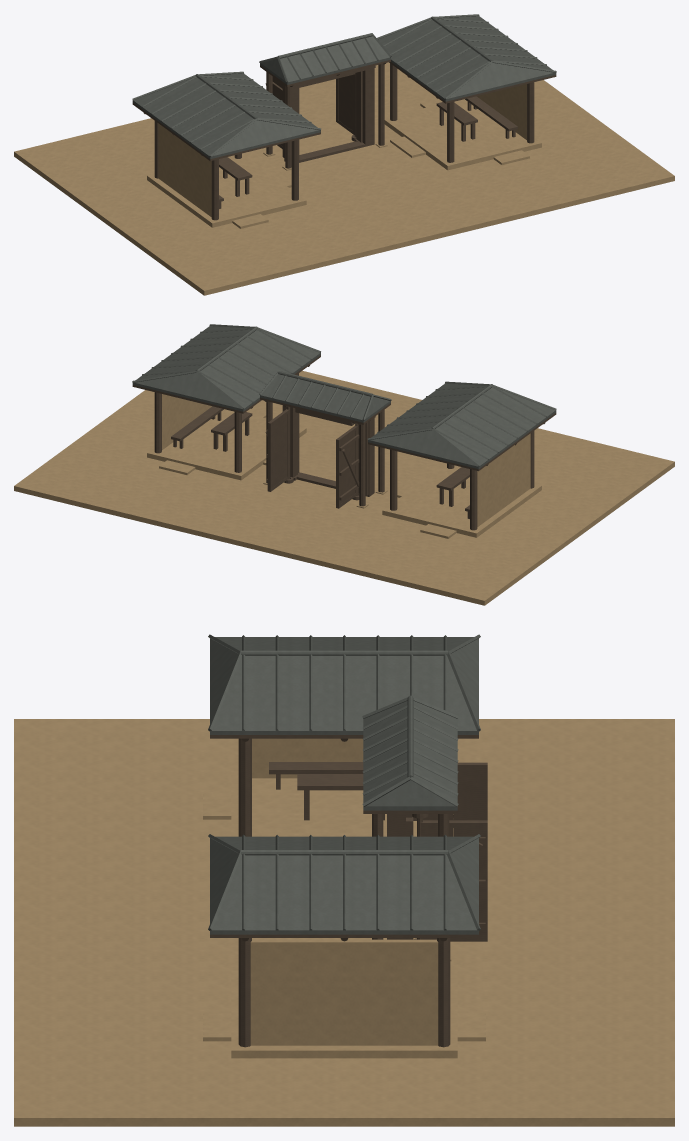
The model's file is guard-slice-open-LOD1.glb.
The picture shows the model from 3 angles, top to bottom: view 1: azimuth 30°, elevation 25°; view 2: azimuth 150°, elevation 25°; view 3: azimuth 270°, elevation 25°; orthographic projection. The views are drawn at different scales.
Visible parts, largest first — view 1: guard-slice-ground-earth, guard-slice-west-tile, guard-slice-east-tile, guard-slice-west-earth, guard-slice-east-earth, guard-slice-portal-timber, guard-slice-portal-tile, guard-slice-east-timber, guard-slice-west-timber, guard-slice-leaf_R-timber; view 2: guard-slice-ground-earth, guard-slice-west-tile, guard-slice-east-tile, guard-slice-west-earth, guard-slice-east-earth, guard-slice-portal-timber, guard-slice-portal-tile, guard-slice-east-timber, guard-slice-west-timber, guard-slice-leaf_R-timber, guard-slice-leaf_L-timber; view 3: guard-slice-ground-earth, guard-slice-east-tile, guard-slice-east-earth, guard-slice-west-tile, guard-slice-west-earth, guard-slice-portal-tile, guard-slice-west-timber, guard-slice-east-timber, guard-slice-leaf_R-timber, guard-slice-leaf_L-timber, guard-slice-portal-timber.
Part boxes in pixels (left/top/right/bottom): guard-slice-ground-earth: left=14, top=62, right=674, bottom=295; guard-slice-west-tile: left=132, top=71, right=321, bottom=159; guard-slice-east-tile: left=377, top=14, right=556, bottom=101; guard-slice-west-earth: left=147, top=123, right=306, bottom=228; guard-slice-east-earth: left=384, top=84, right=541, bottom=170; guard-slice-portal-timber: left=260, top=60, right=390, bottom=168; guard-slice-portal-tile: left=259, top=33, right=391, bottom=84; guard-slice-east-timber: left=389, top=62, right=556, bottom=162; guard-slice-west-timber: left=132, top=103, right=320, bottom=220; guard-slice-leaf_R-timber: left=336, top=73, right=356, bottom=137; guard-slice-ground-earth: left=14, top=370, right=674, bottom=605; guard-slice-west-tile: left=367, top=381, right=556, bottom=469; guard-slice-east-tile: left=132, top=324, right=320, bottom=411; guard-slice-west-earth: left=382, top=433, right=541, bottom=538; guard-slice-east-earth: left=147, top=394, right=306, bottom=480; guard-slice-portal-timber: left=260, top=397, right=390, bottom=506; guard-slice-portal-tile: left=259, top=371, right=391, bottom=422; guard-slice-east-timber: left=132, top=355, right=320, bottom=472; guard-slice-west-timber: left=368, top=413, right=556, bottom=530; guard-slice-leaf_R-timber: left=265, top=407, right=290, bottom=491; guard-slice-leaf_L-timber: left=336, top=424, right=359, bottom=508; guard-slice-ground-earth: left=14, top=719, right=674, bottom=1126; guard-slice-east-tile: left=208, top=834, right=480, bottom=934; guard-slice-east-earth: left=203, top=939, right=485, bottom=1058; guard-slice-west-tile: left=208, top=634, right=480, bottom=734; guard-slice-west-earth: left=203, top=738, right=453, bottom=836; guard-slice-portal-tile: left=362, top=695, right=458, bottom=810; guard-slice-west-timber: left=210, top=735, right=478, bottom=836; guard-slice-east-timber: left=210, top=934, right=478, bottom=1047; guard-slice-leaf_R-timber: left=417, top=818, right=487, bottom=941; guard-slice-leaf_L-timber: left=423, top=762, right=487, bottom=820; guard-slice-portal-timber: left=363, top=810, right=457, bottom=939.
Size of the model in its own units: 20 by 4.48 by 14.
3 materials, 3 textured.
